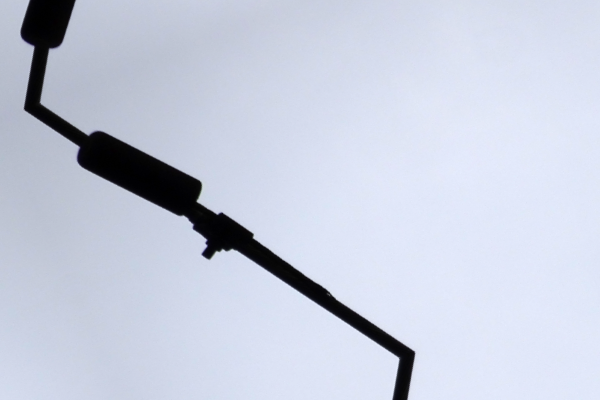damper_defect: (68, 128, 336, 301)
